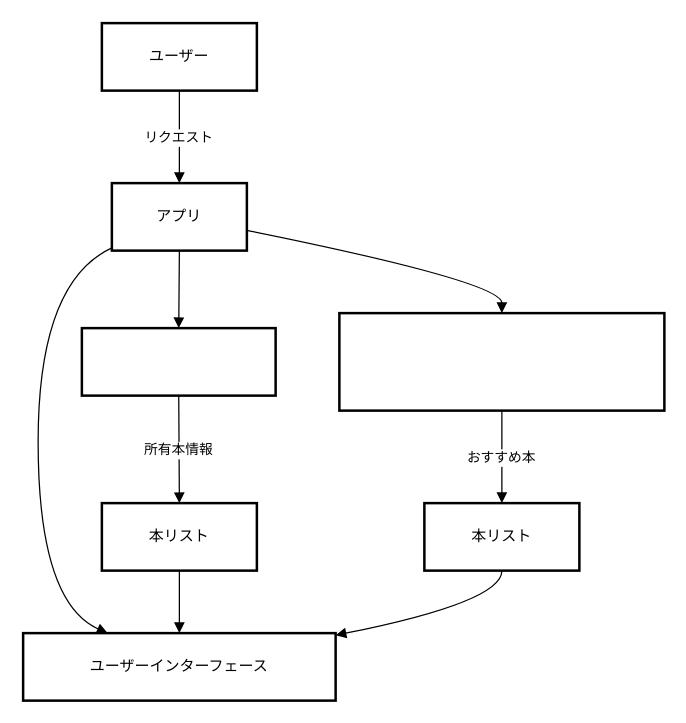
This 686x723 diagram has some shape labels left out. The shapes that lost their labels are listed below. From the top down, each one's box as (x1, y1, x2, y2) in pixels, then its label:
(80, 326, 276, 396): データベース
(338, 311, 665, 411): レコメンデーションエンジン
